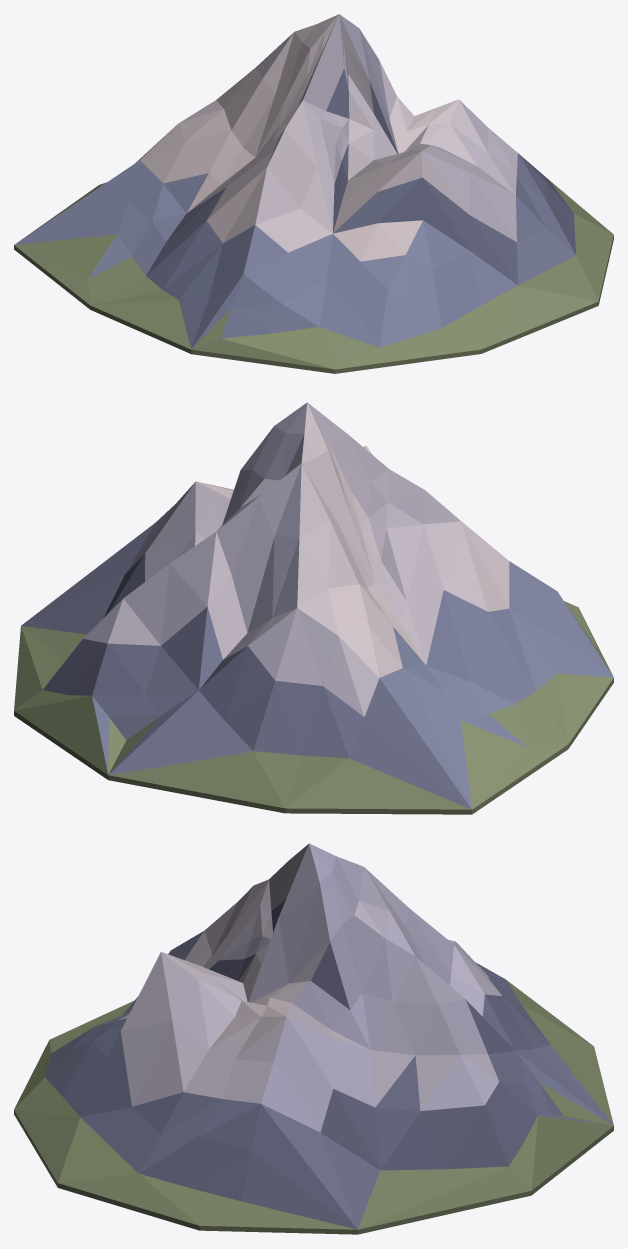
Rendered from massif_west_summit.glb.
3 renders of one model, top to bottom at view 1: azimuth 30°, elevation 25°; view 2: azimuth 150°, elevation 25°; view 3: azimuth 270°, elevation 25°, orthographic. The views are drawn at different scales.
Visible parts, largest first — view 1: massif_west_summit; view 2: massif_west_summit; view 3: massif_west_summit.
Boxes of the visible parts, box(x1,y1,x2,y2) form: massif_west_summit: box(14, 14, 613, 373); massif_west_summit: box(14, 402, 613, 814); massif_west_summit: box(14, 843, 613, 1234).
Bounding box in the file's own units: 818 × 402 × 819.
